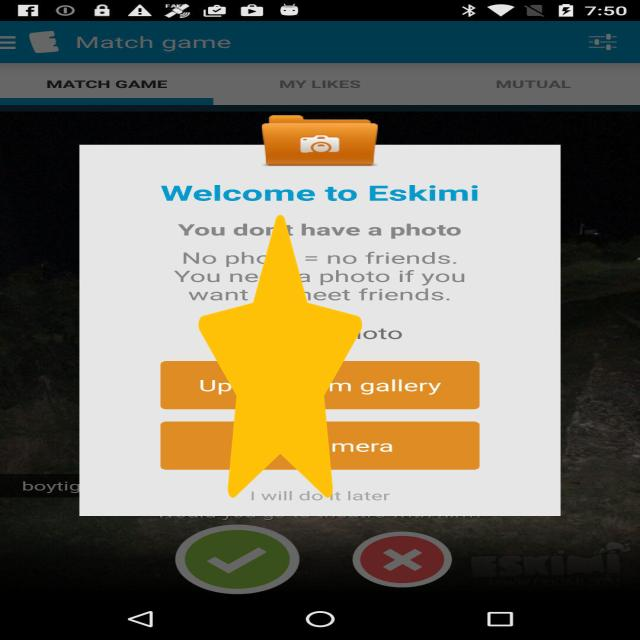forced continuity: (199, 215, 362, 498)
